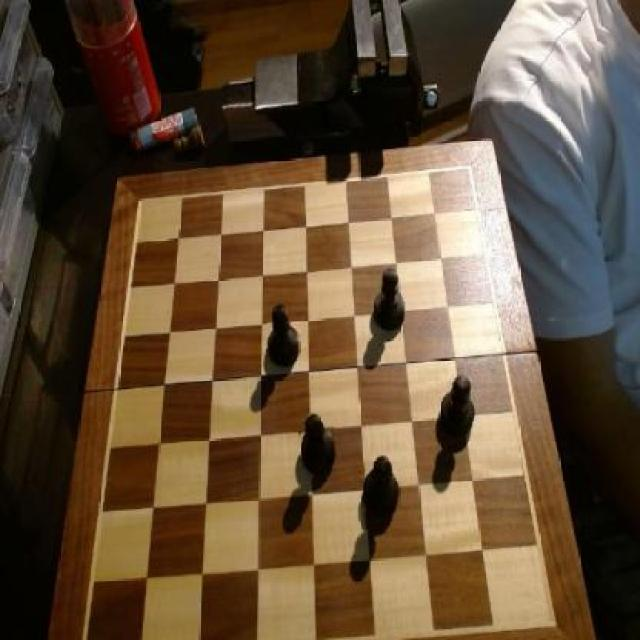black-knight: (437, 374, 475, 448), (362, 457, 399, 532), (299, 412, 336, 478), (268, 305, 304, 372), (372, 269, 407, 333)
